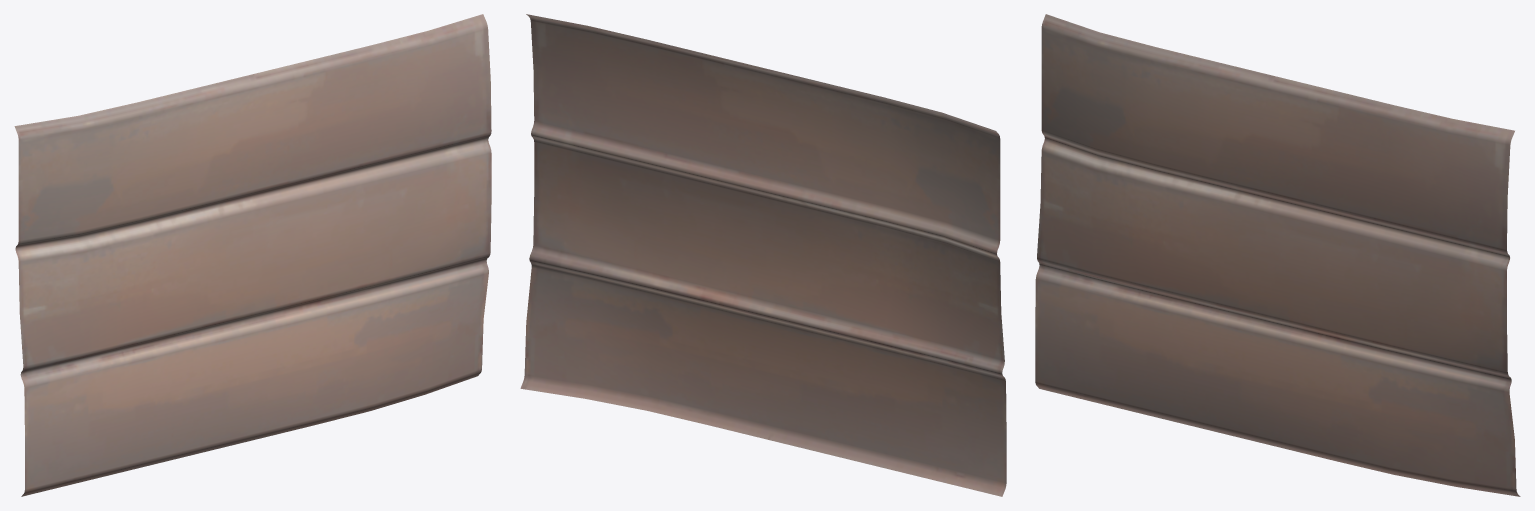
The model's file is props_2fort_roof_metal003.glb.
The picture shows the model from 3 angles, left to right: view 1: azimuth 30°, elevation 25°; view 2: azimuth 150°, elevation 25°; view 3: azimuth 330°, elevation 25°; orthographic projection.
Visible parts, largest first — view 1: models/props_2fort/roof_metal003; view 2: models/props_2fort/roof_metal003; view 3: models/props_2fort/roof_metal003.
Boxes of the visible parts, x1=… form: models/props_2fort/roof_metal003: x1=14, y1=14, x2=491, y2=496; models/props_2fort/roof_metal003: x1=520, y1=14, x2=1006, y2=496; models/props_2fort/roof_metal003: x1=1035, y1=14, x2=1520, y2=496.
Bounding box in the file's own units: 128 × 96 × 6.5.
Materials: 1 (1 with a texture image).
